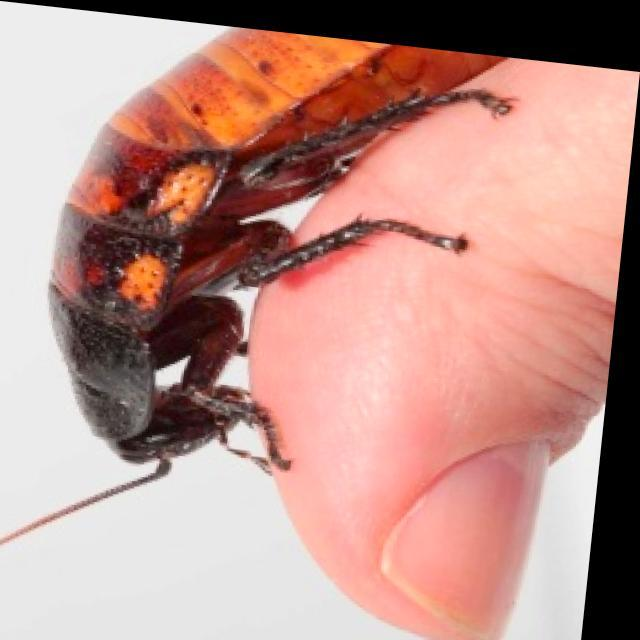cockroach: (24, 24, 489, 511)
